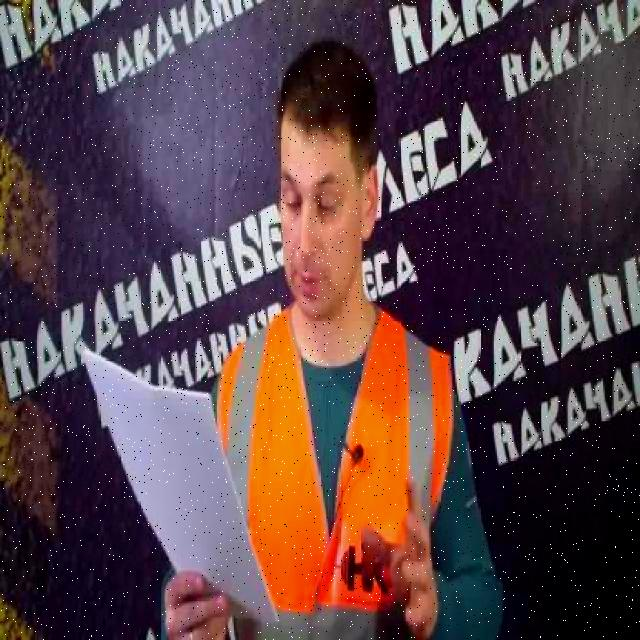Mask: (215, 298, 460, 638)
